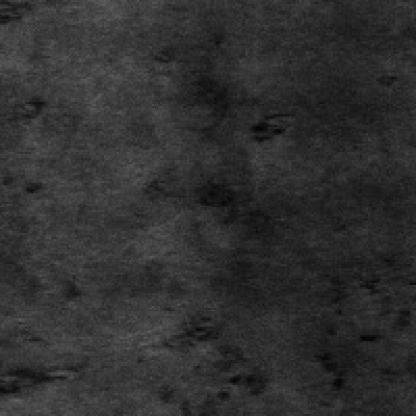rolled-in_scale: (142, 320, 256, 416), (316, 260, 416, 352)
